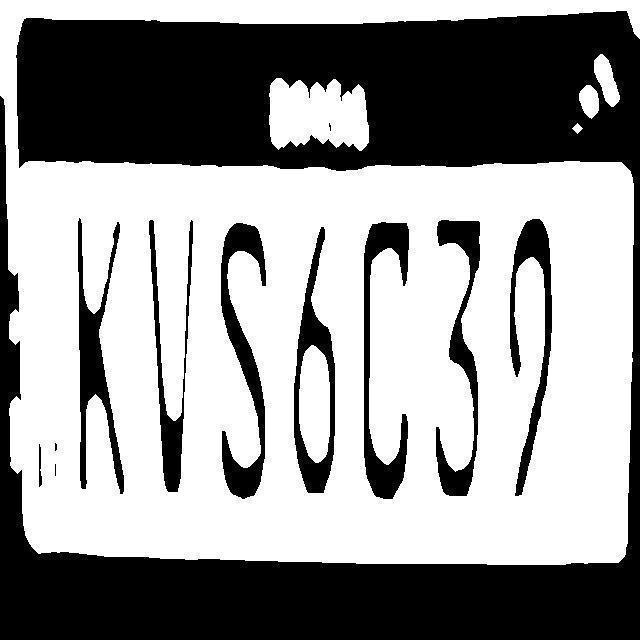3: (426, 212, 492, 507)
6: (278, 216, 348, 522)
9: (498, 204, 568, 510)
c: (354, 211, 419, 512)
k: (66, 212, 142, 518)
s: (206, 219, 278, 522)
v: (143, 207, 196, 500)
